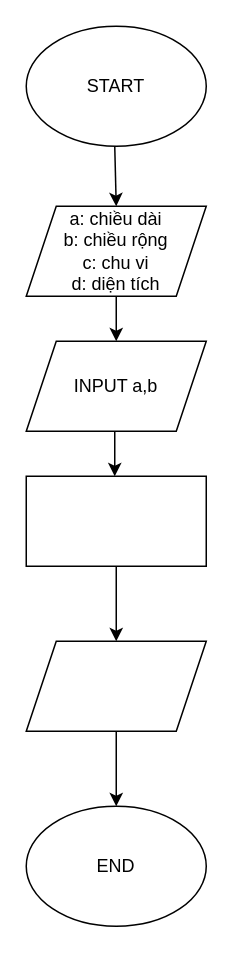
This 233x953 diagram has some shape labels left out. Each missing label, with the box of its shape:
c = ( a + b ) * 2 d = a * b: (25, 475, 206, 566)
OUTPUT c,d: (25, 640, 206, 731)
